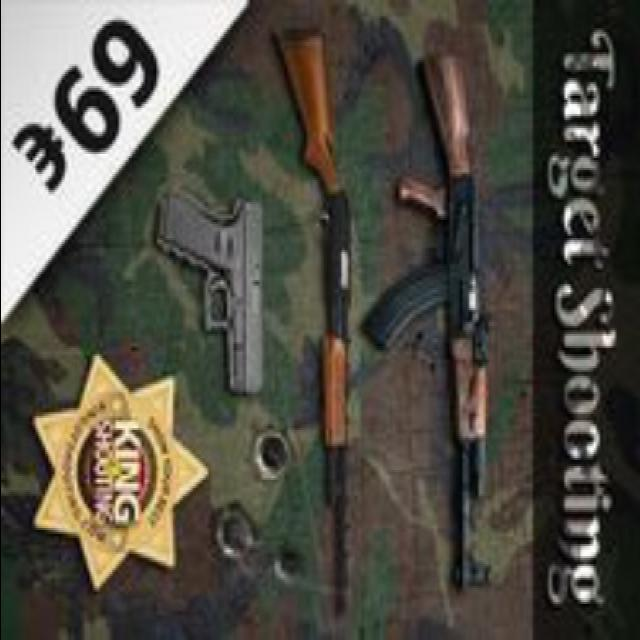handgun: (149, 189, 275, 397)
rifle: (364, 25, 526, 597), (274, 9, 375, 623)
